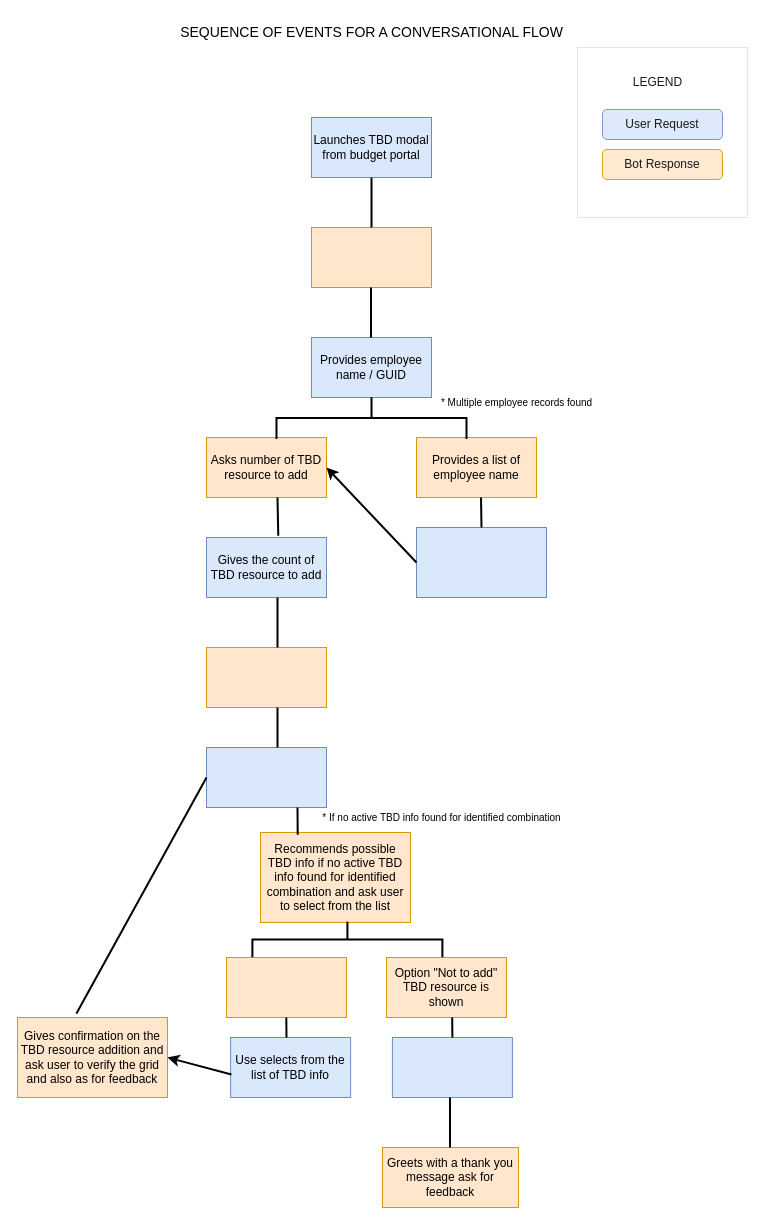
Image size: 765x1225. Some labels were removed from this diagram. The shapes that lost their labels are listed below. From the top down, each one's box as (x1, y1, x2, y2) in pixels, then its label:
(310, 226, 432, 288): Greets user and ask named resource / emplyee
(416, 526, 546, 598): Choose the employee from the given list
(206, 646, 326, 708): Asks for the hours to add for each TBD resource
(206, 746, 326, 808): Gives the hours for each TBD resource
(226, 956, 346, 1018): List of possible TBD combinations
(391, 1036, 512, 1098): Use selects "Not to add" TBD resource
